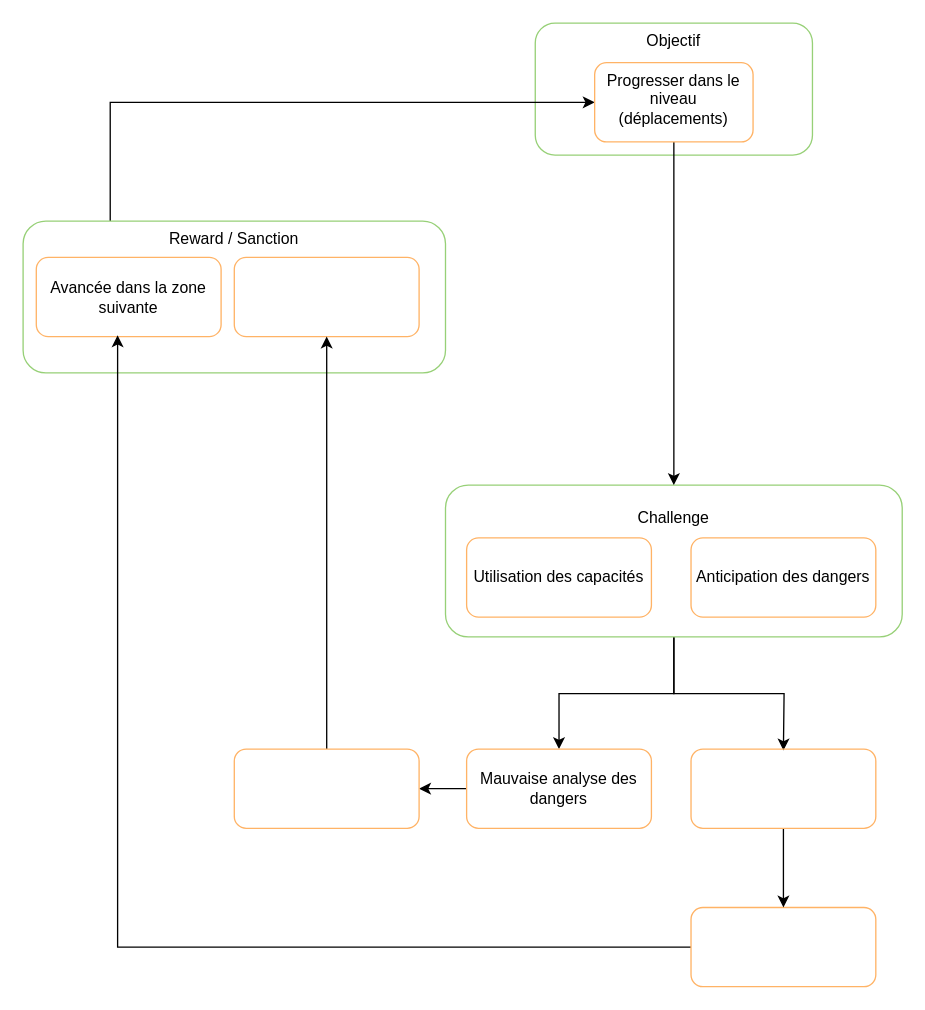
Image size: 925x1010. Some labels were removed from this diagram. Here are the shapes that lost their labels. From the top down, the centre of each, then its label:
At (326,296): "Mort ou blocage du personnage".
At (326,788): "Élimination du joueur ou blocage".
At (783,788): "Observer les différents dangers".
At (783,946): "Esquiver les attaques ennemies et les pièges".
